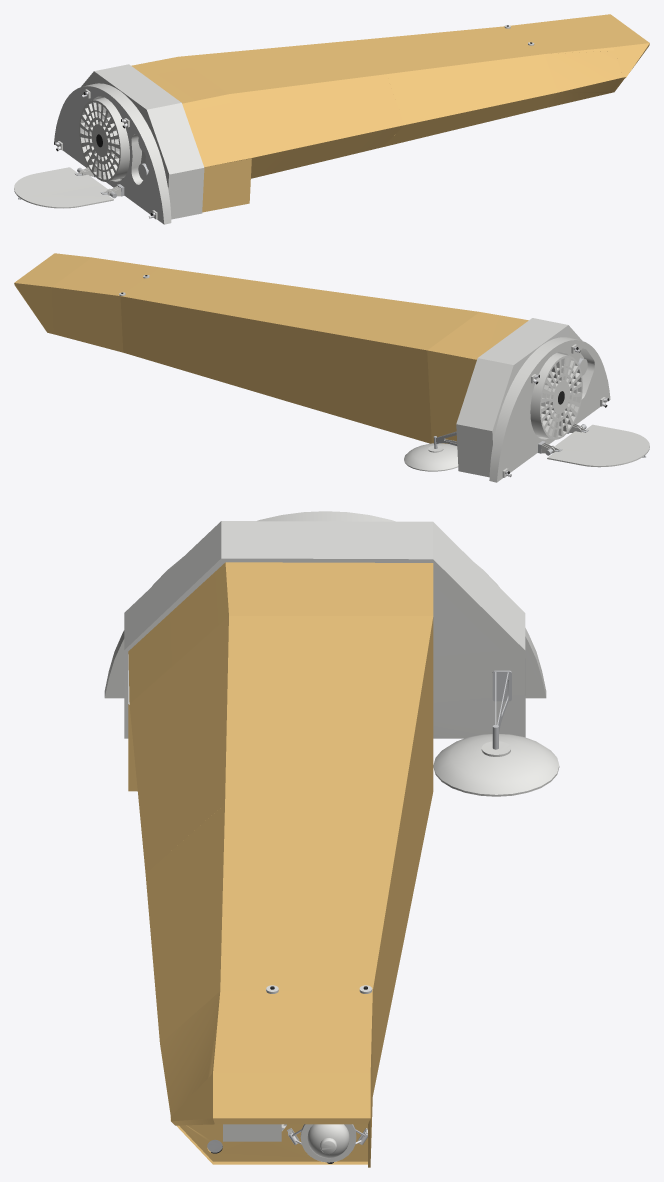
The model's file is constellation-x.glb.
3 views of the same model, one above another, from view 1: azimuth 30°, elevation 25°; view 2: azimuth 150°, elevation 25°; view 3: azimuth 270°, elevation 25° (orthographic). The views are drawn at different scales.
Parts seen in each view (by area): view 1: constellation-x; view 2: constellation-x; view 3: constellation-x.
Boxes of the visible parts, box(x1,y1,x2,y2) form: constellation-x: box(14, 14, 649, 224); constellation-x: box(14, 253, 649, 482); constellation-x: box(104, 511, 559, 1167).
Bounding box in the file's own units: 10 × 1.63 × 3.26.
